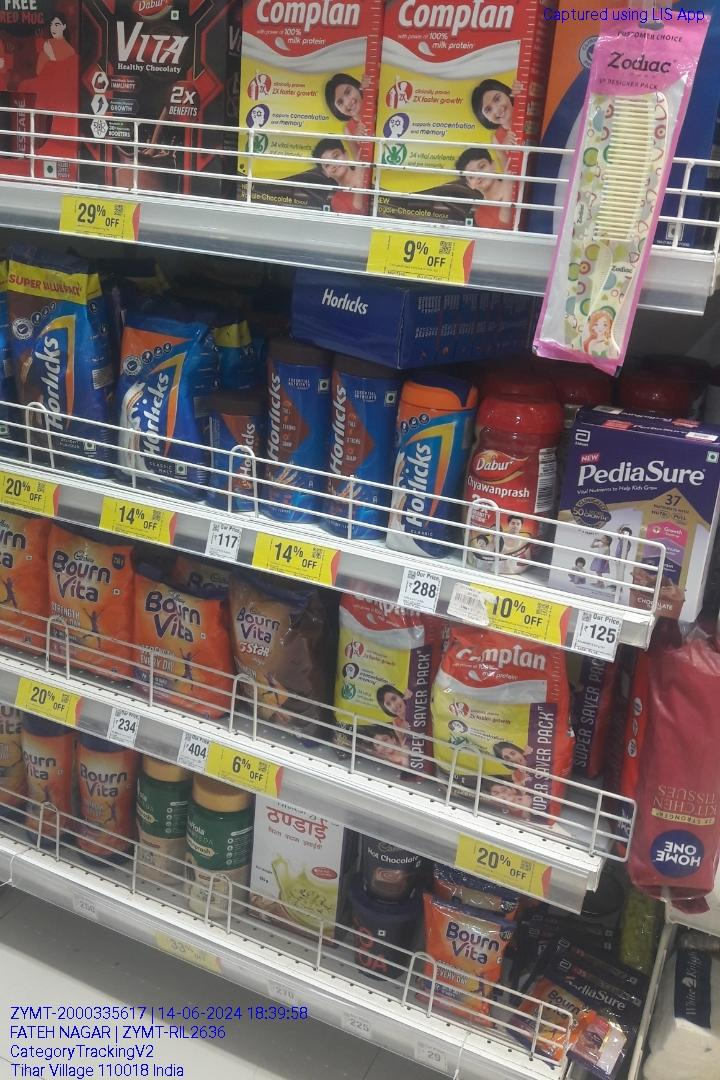BOURN_VITA_500_G_JAR: (71, 740, 132, 881), (21, 723, 68, 844)
BOURN_VITA_500_G_POUCH: (132, 571, 221, 715)
BOURN_VITA_750_G_POUCH: (47, 525, 126, 686)
BOURN_VITA_75_G_POUCH: (429, 901, 497, 1026)
BOURN_VITA_FIVE_STAR_MAGIC_500_G_POUCH: (231, 577, 309, 743)
COMPLAN_CHOCOLATE_500_GMS_PACK: (377, 0, 524, 231), (238, 0, 368, 211)
COMPLAN_RC_POUCH_700_GMS_12: (431, 623, 561, 820), (332, 598, 429, 776)
HORLICK_CHOCOLATE_200_G_JAR: (209, 399, 263, 514)
HORLICK_CHOCOLATE_500_G_JAR: (319, 353, 376, 539), (262, 340, 316, 525)
HORLICK_CHOCOLATE_750_G_POUCH: (8, 258, 98, 469)
HORLICK_CLASSIC_MALT_500_G_JAR: (382, 379, 458, 561)
PEDIASURE_CHOCOLATE_500_G_PACK: (559, 420, 715, 620)
